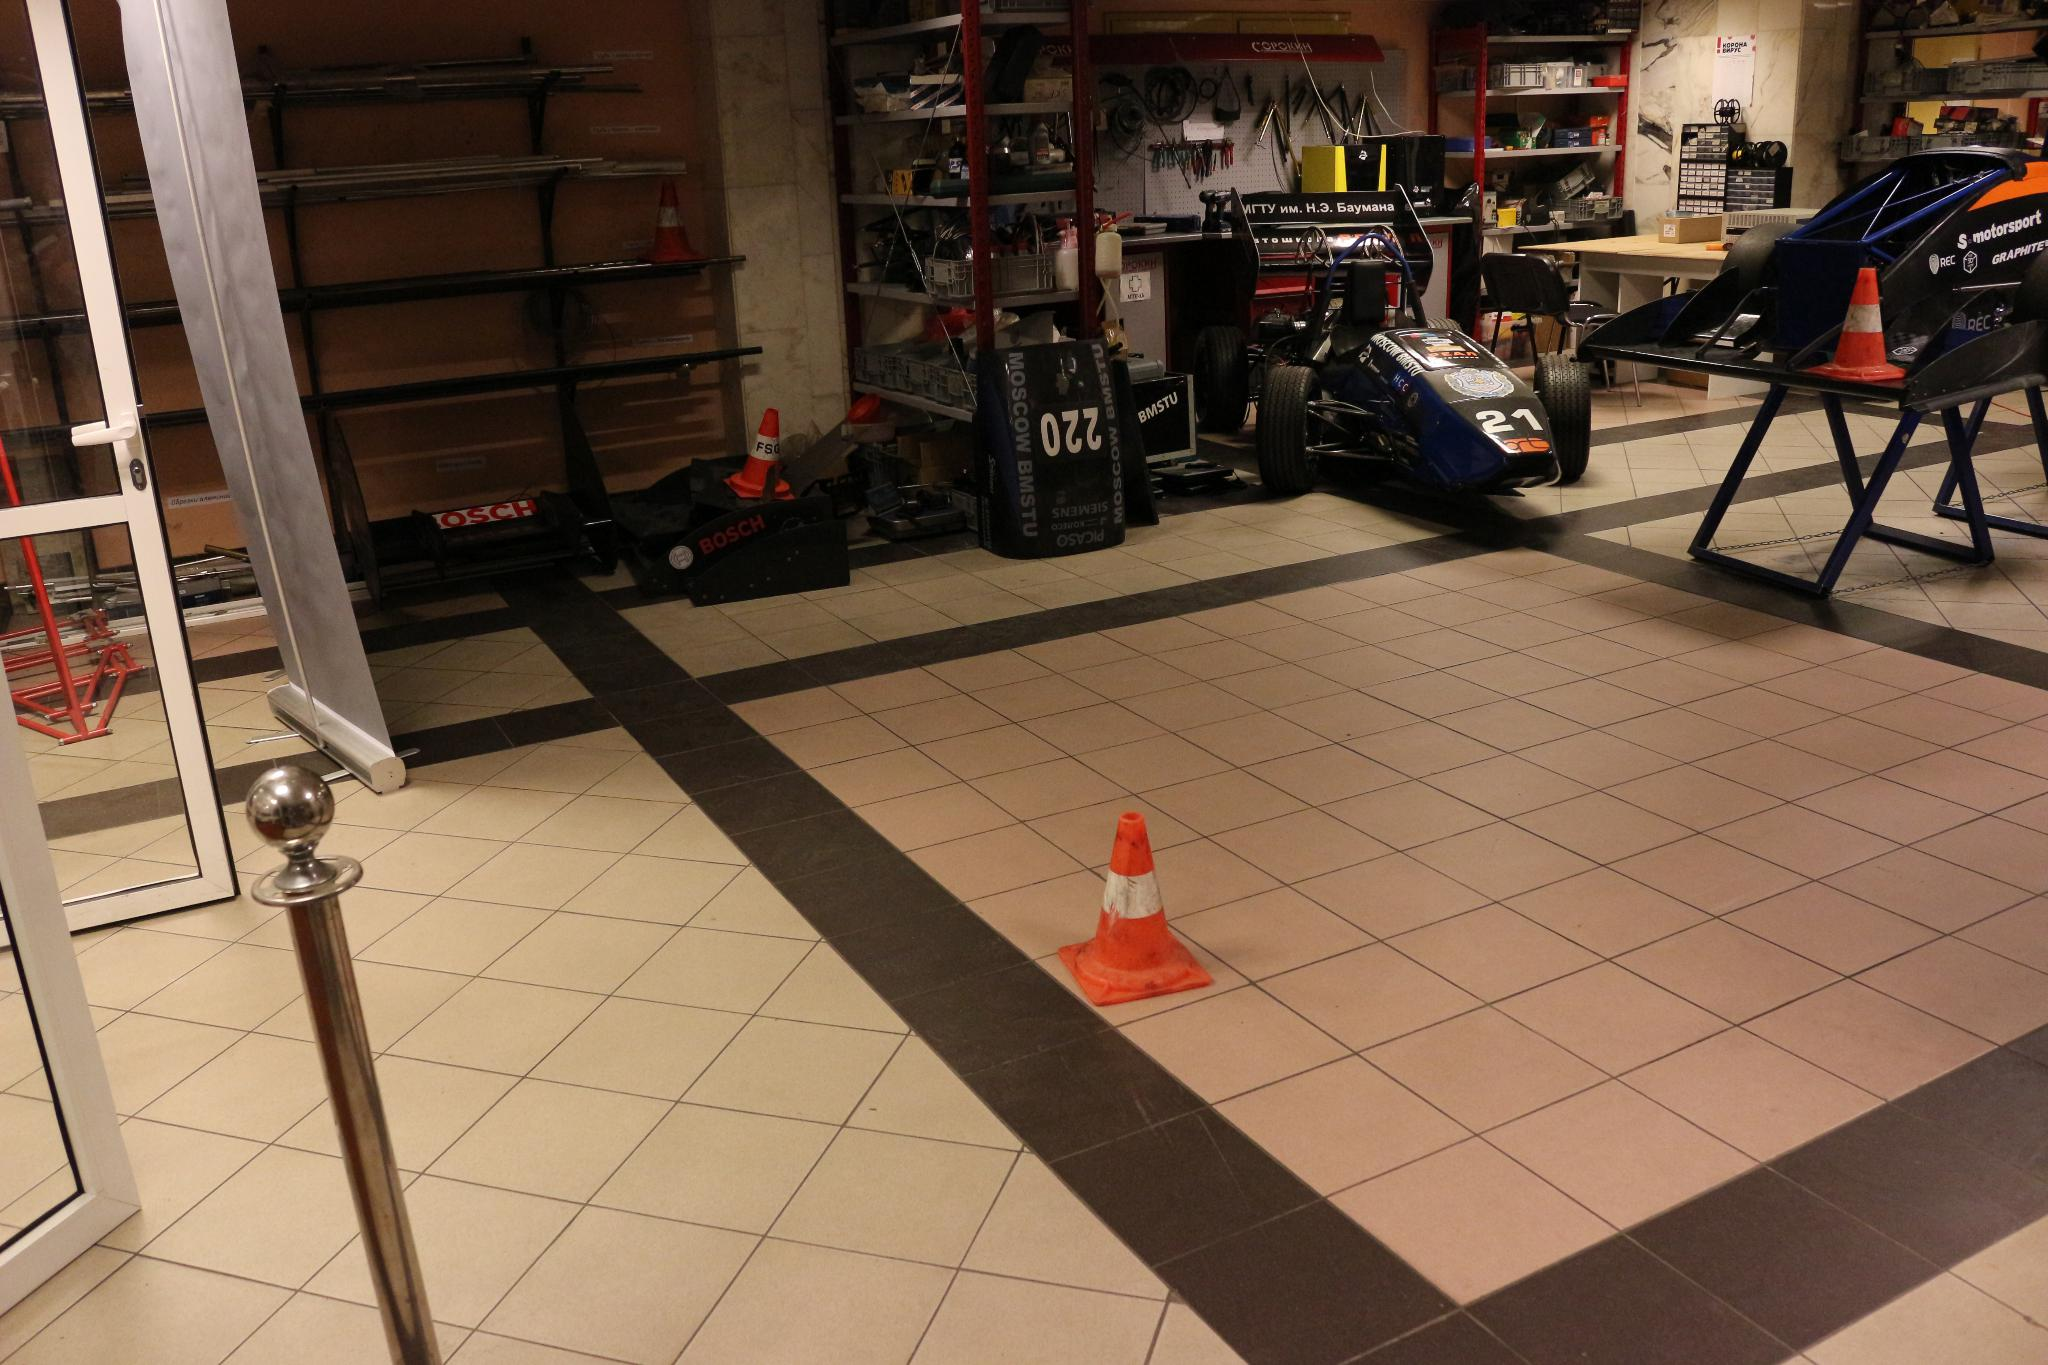Orange_Cone: (1070, 809, 1207, 996), (1818, 261, 1906, 385), (726, 405, 795, 501), (638, 175, 707, 265)
